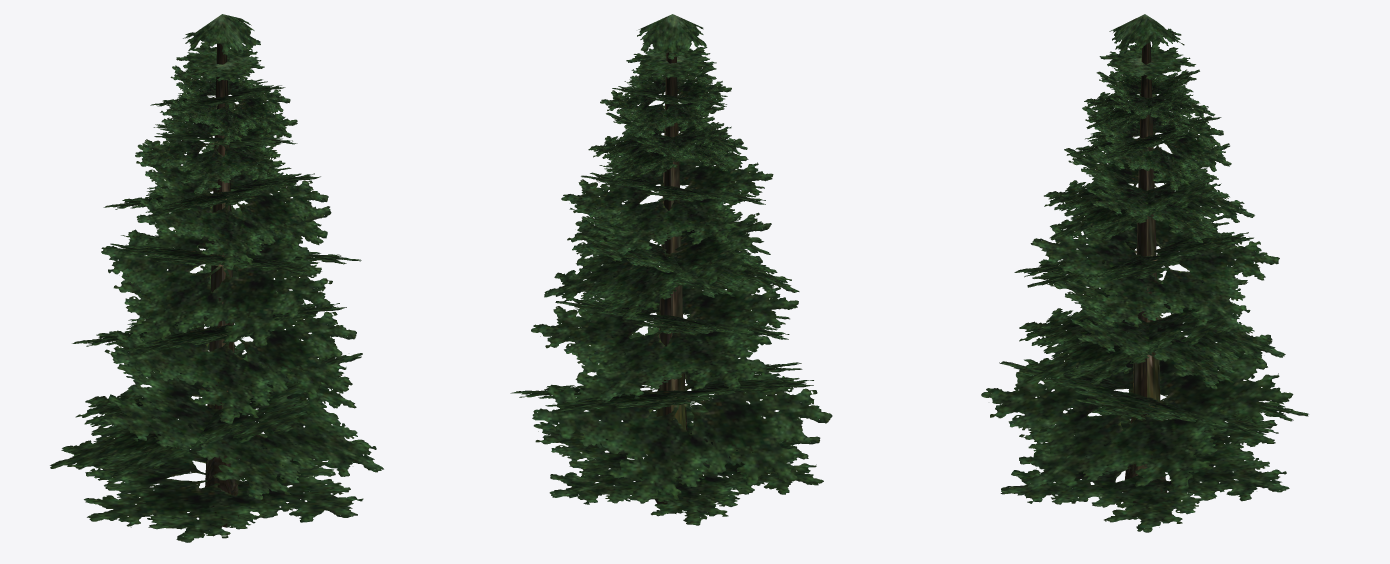
Rendered from 0ad-ancient.e6baf49b607c.pine.glb.
The picture shows the model from 3 angles, left to right: view 1: azimuth 30°, elevation 25°; view 2: azimuth 150°, elevation 25°; view 3: azimuth 270°, elevation 25°; orthographic projection. The views are drawn at different scales.
Parts seen in each view (by area): view 1: flora/trees/pine.xml; view 2: flora/trees/pine.xml; view 3: flora/trees/pine.xml.
Part boxes in pixels (x1,y1,x2,y2): flora/trees/pine.xml: (50,14,383,542); flora/trees/pine.xml: (510,14,832,525); flora/trees/pine.xml: (981,14,1308,532).
Size of the model in its own units: 16.29 by 19.23 by 16.35.
1 material, 1 textured.
